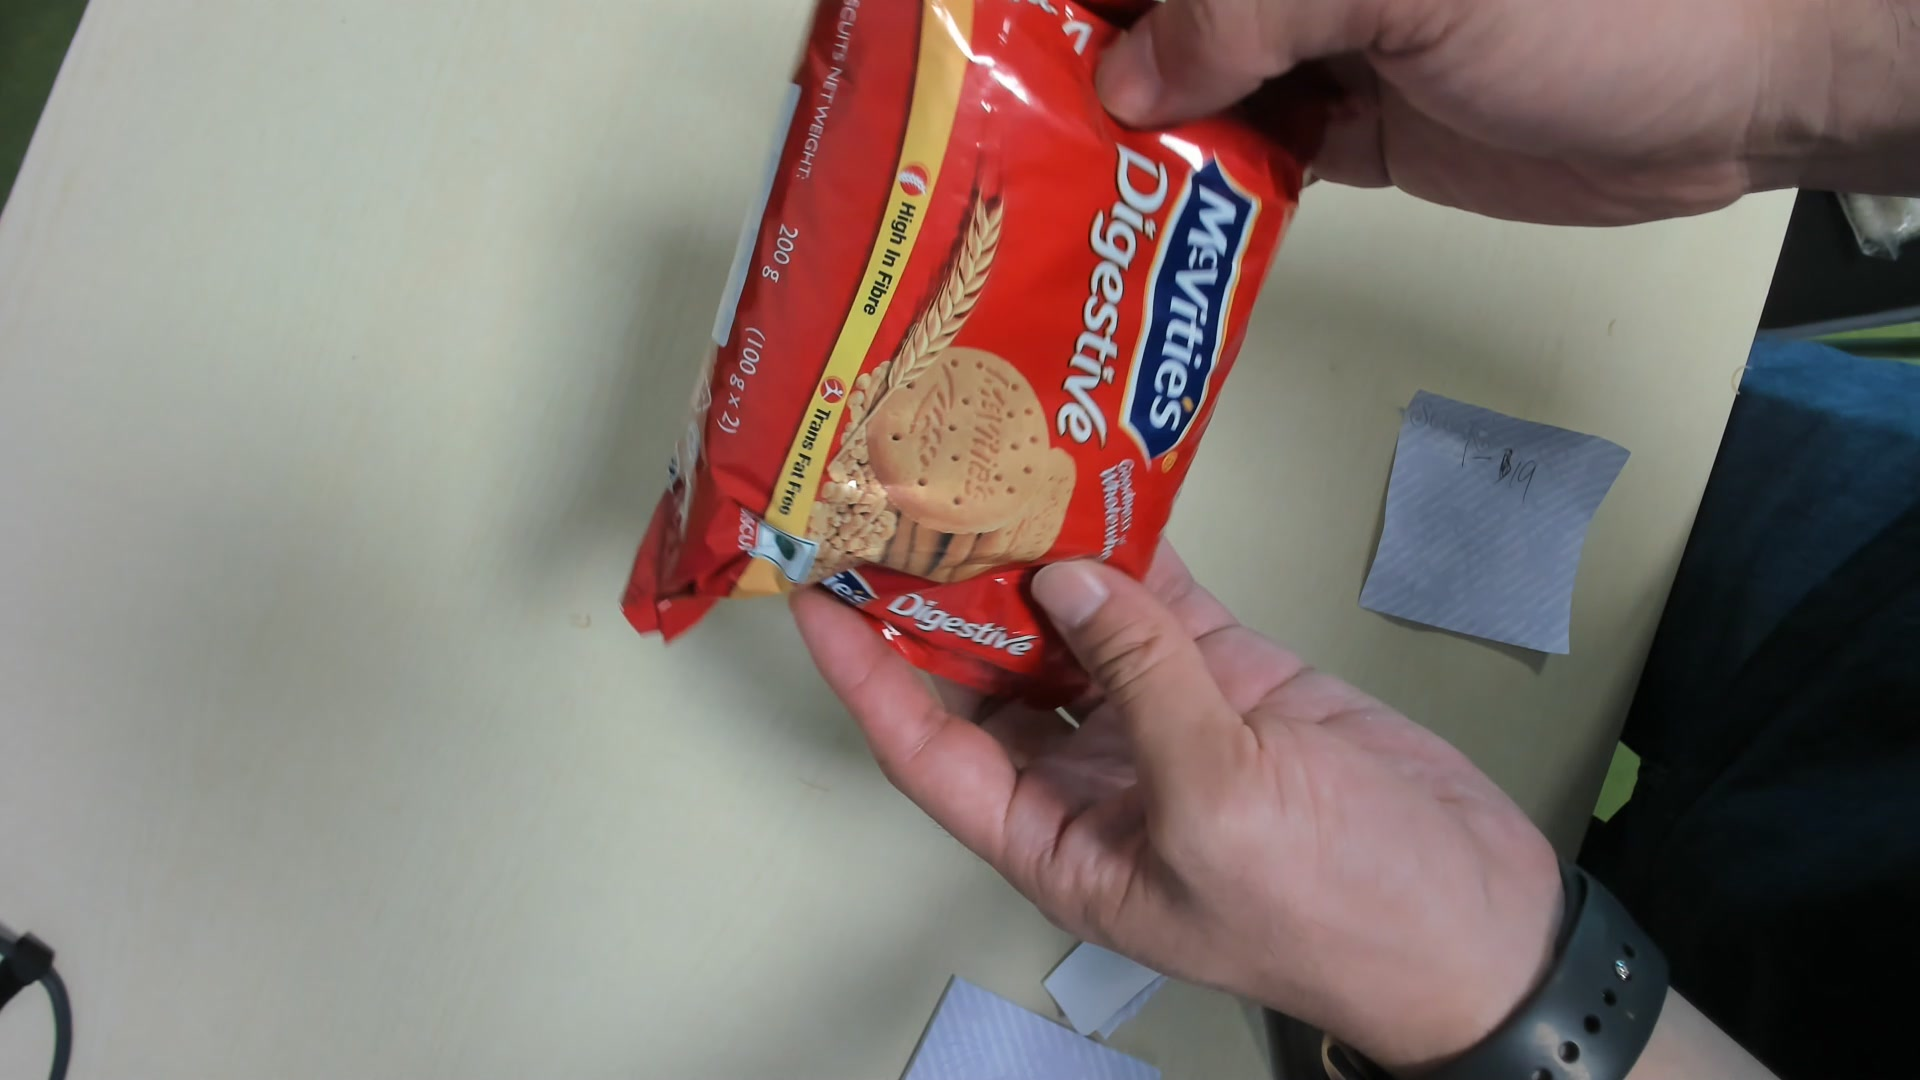BiscuitsCrackersCookies_200-299g_NonHalal_NonHealthy: (626, 3, 1316, 702)
